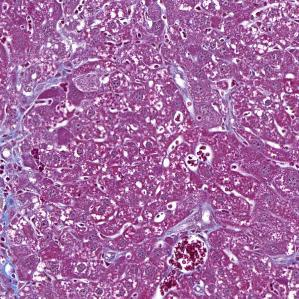fibrosis: (0, 89, 31, 221)
